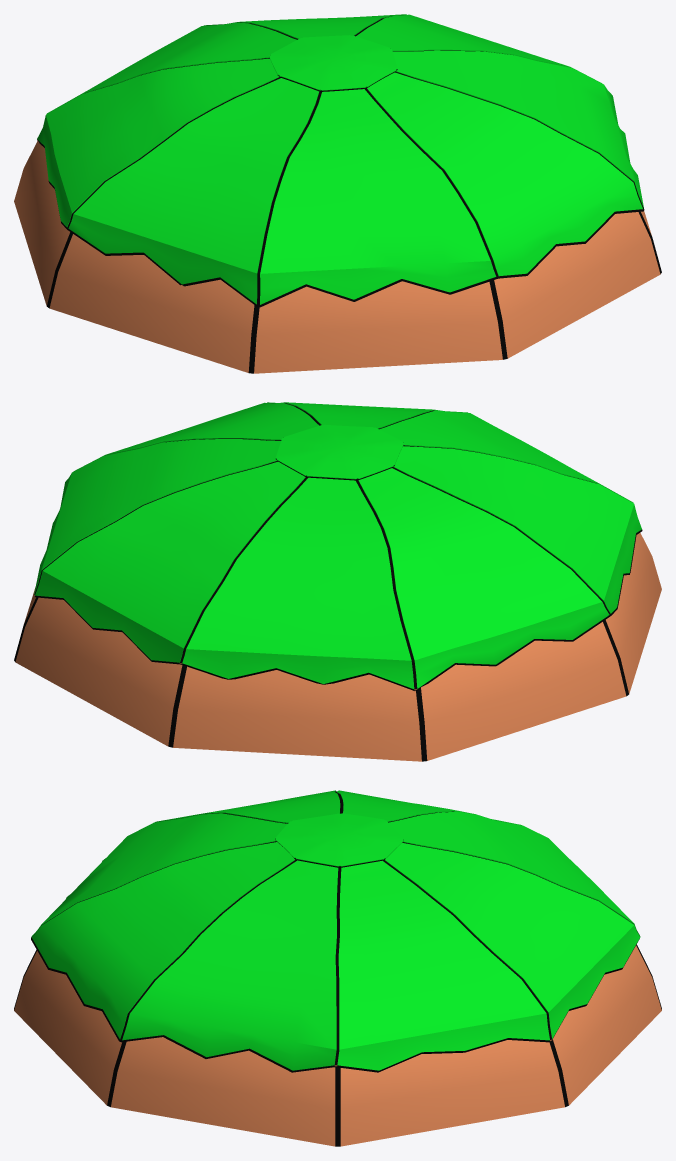
File: Platform01.fbx
3 renders of one model, top to bottom at view 1: azimuth 30°, elevation 25°; view 2: azimuth 150°, elevation 25°; view 3: azimuth 270°, elevation 25°, orthographic. The views are drawn at different scales.
Visible parts, largest first — view 1: SmallHill01; view 2: SmallHill01; view 3: SmallHill01.
Boxes of the visible parts, x1,y1,x2,y2 form: SmallHill01: (14, 14, 661, 373); SmallHill01: (14, 402, 661, 761); SmallHill01: (14, 790, 661, 1146).
Bounding box in the file's own units: 1322 × 388 × 1322.
